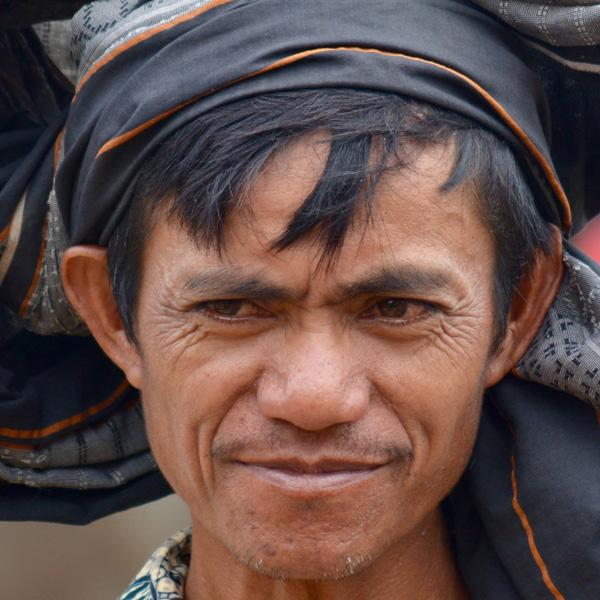Eyes: (182, 284, 284, 338), (346, 288, 452, 336)
